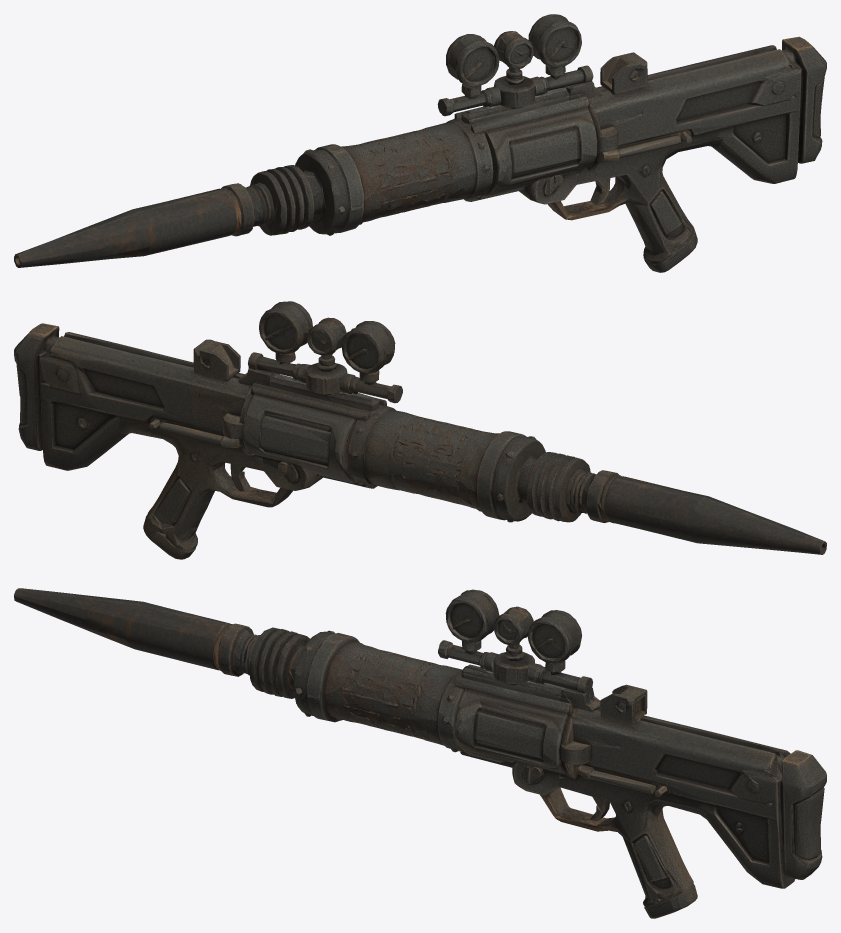
Rendered from flamethrower.glb.
The picture shows the model from 3 angles, top to bottom: view 1: azimuth 30°, elevation 25°; view 2: azimuth 150°, elevation 25°; view 3: azimuth 330°, elevation 25°; orthographic projection.
Parts seen in each view (by area): view 1: mesh_node; view 2: mesh_node; view 3: mesh_node.
Boxes of the visible parts, x1=… form: mesh_node: x1=14, y1=14, x2=826, y2=272; mesh_node: x1=14, y1=301, x2=826, y2=559; mesh_node: x1=14, y1=588, x2=826, y2=918.
Size of the model in its own units: 1.9 by 0.628 by 0.185.
1 material, 1 textured.
